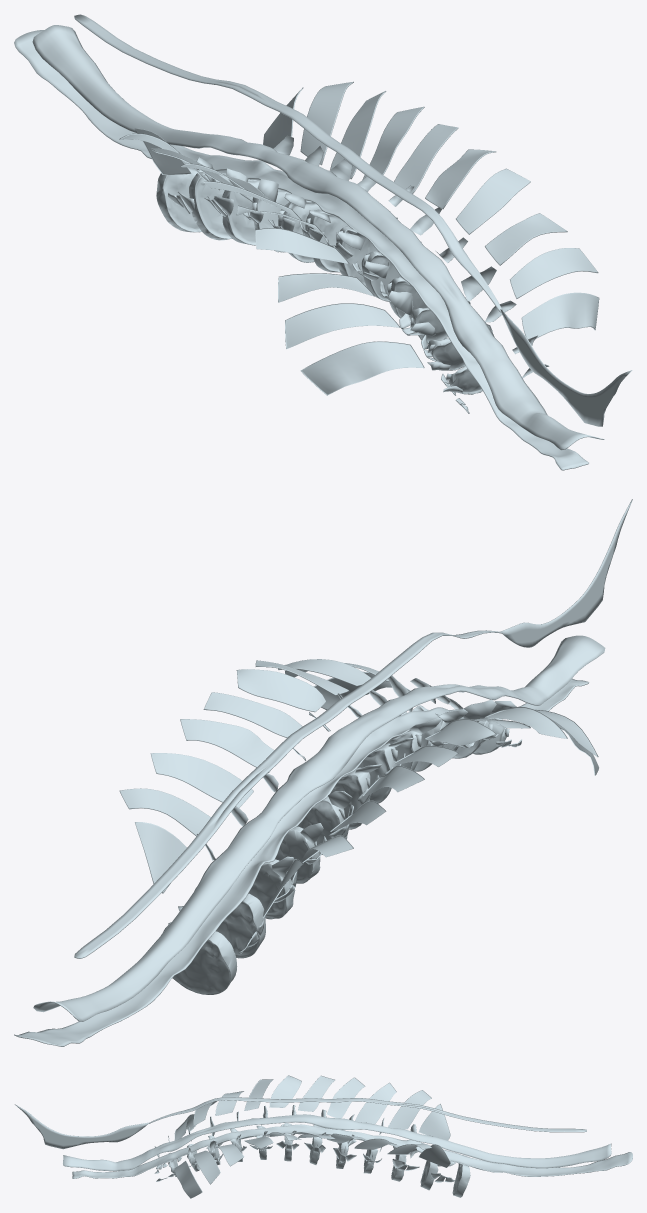
Rendered from back__joints.2d2e6406bf.glb.
3 renders of one model, top to bottom at view 1: azimuth 30°, elevation 25°; view 2: azimuth 150°, elevation 25°; view 3: azimuth 270°, elevation 25°, orthographic. The views are drawn at different scales.
Visible parts, largest first — view 1: Ligamenta flava, Internal intercostal membrane.l, Internal intercostal membrane.r, Posterior longitudinal ligament, Supraspinous ligament, Nuchal ligament, Costotransverse ligament.l, Costotransverse ligament.r, Radiate ligament of head of rib.r, Intervertebral disc T12-L1, Intervertebral disc T11-T12, Intervertebral disc T10-T11 (+7 smaller); view 2: Ligamenta flava, Internal intercostal membrane.l, Posterior longitudinal ligament, Internal intercostal membrane.r, Supraspinous ligament, Nuchal ligament, Intervertebral disc T12-L1, Costotransverse ligament.r, Intervertebral disc T11-T12, Intervertebral disc T10-T11, Costotransverse ligament.l, Intervertebral disc T9-T10 (+4 smaller); view 3: Internal intercostal membrane.r, Ligamenta flava, Posterior longitudinal ligament, Internal intercostal membrane.l, Supraspinous ligament, Nuchal ligament, Radiate ligament of head of rib.l, Intervertebral disc T12-L1, Intervertebral disc T11-T12, Costotransverse ligament.r, Intervertebral disc T10-T11, Intervertebral disc T7-T8 (+4 smaller).
Boxes of the visible parts, x1=… form: Ligamenta flava: x1=32, y1=25, x2=604, y2=450; Internal intercostal membrane.l: x1=263, y1=81, x2=599, y2=339; Internal intercostal membrane.r: x1=119, y1=128, x2=424, y2=395; Posterior longitudinal ligament: x1=14, y1=30, x2=588, y2=470; Supraspinous ligament: x1=74, y1=14, x2=502, y2=312; Nuchal ligament: x1=500, y1=309, x2=632, y2=426; Costotransverse ligament.l: x1=273, y1=136, x2=549, y2=378; Costotransverse ligament.r: x1=196, y1=157, x2=462, y2=393; Radiate ligament of head of rib.r: x1=168, y1=191, x2=469, y2=413; Intervertebral disc T12-L1: x1=156, y1=167, x2=202, y2=232; Intervertebral disc T11-T12: x1=189, y1=172, x2=249, y2=240; Intervertebral disc T10-T11: x1=222, y1=179, x2=259, y2=245; Ligamenta flava: x1=33, y1=635, x2=605, y2=1021; Internal intercostal membrane.l: x1=119, y1=659, x2=410, y2=893; Posterior longitudinal ligament: x1=14, y1=678, x2=589, y2=1046; Internal intercostal membrane.r: x1=262, y1=707, x2=599, y2=918; Supraspinous ligament: x1=74, y1=630, x2=502, y2=958; Nuchal ligament: x1=500, y1=499, x2=632, y2=647; Intervertebral disc T12-L1: x1=161, y1=924, x2=237, y2=994; Costotransverse ligament.r: x1=272, y1=699, x2=529, y2=877; Intervertebral disc T11-T12: x1=194, y1=887, x2=265, y2=958; Intervertebral disc T10-T11: x1=248, y1=859, x2=295, y2=919; Costotransverse ligament.l: x1=196, y1=675, x2=462, y2=860; Intervertebral disc T9-T10: x1=275, y1=826, x2=320, y2=883; Internal intercostal membrane.r: x1=174, y1=1075, x2=450, y2=1140; Ligamenta flava: x1=63, y1=1114, x2=611, y2=1171; Posterior longitudinal ligament: x1=72, y1=1124, x2=632, y2=1178; Internal intercostal membrane.l: x1=174, y1=1132, x2=450, y2=1198; Supraspinous ligament: x1=149, y1=1097, x2=586, y2=1132; Nuchal ligament: x1=14, y1=1104, x2=149, y2=1149; Radiate ligament of head of rib.l: x1=156, y1=1141, x2=455, y2=1182; Intervertebral disc T12-L1: x1=452, y1=1155, x2=470, y2=1197; Intervertebral disc T11-T12: x1=420, y1=1160, x2=438, y2=1190; Costotransverse ligament.r: x1=154, y1=1105, x2=416, y2=1157; Intervertebral disc T10-T11: x1=391, y1=1154, x2=406, y2=1181; Intervertebral disc T7-T8: x1=309, y1=1125, x2=322, y2=1164.
Bounding box in the file's own units: 183 × 106 × 609.
